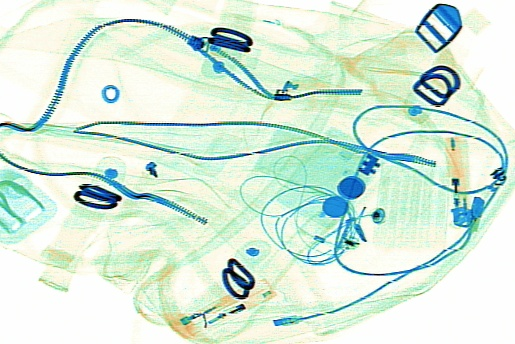lighter: (177, 278, 276, 338), (444, 134, 472, 228)
